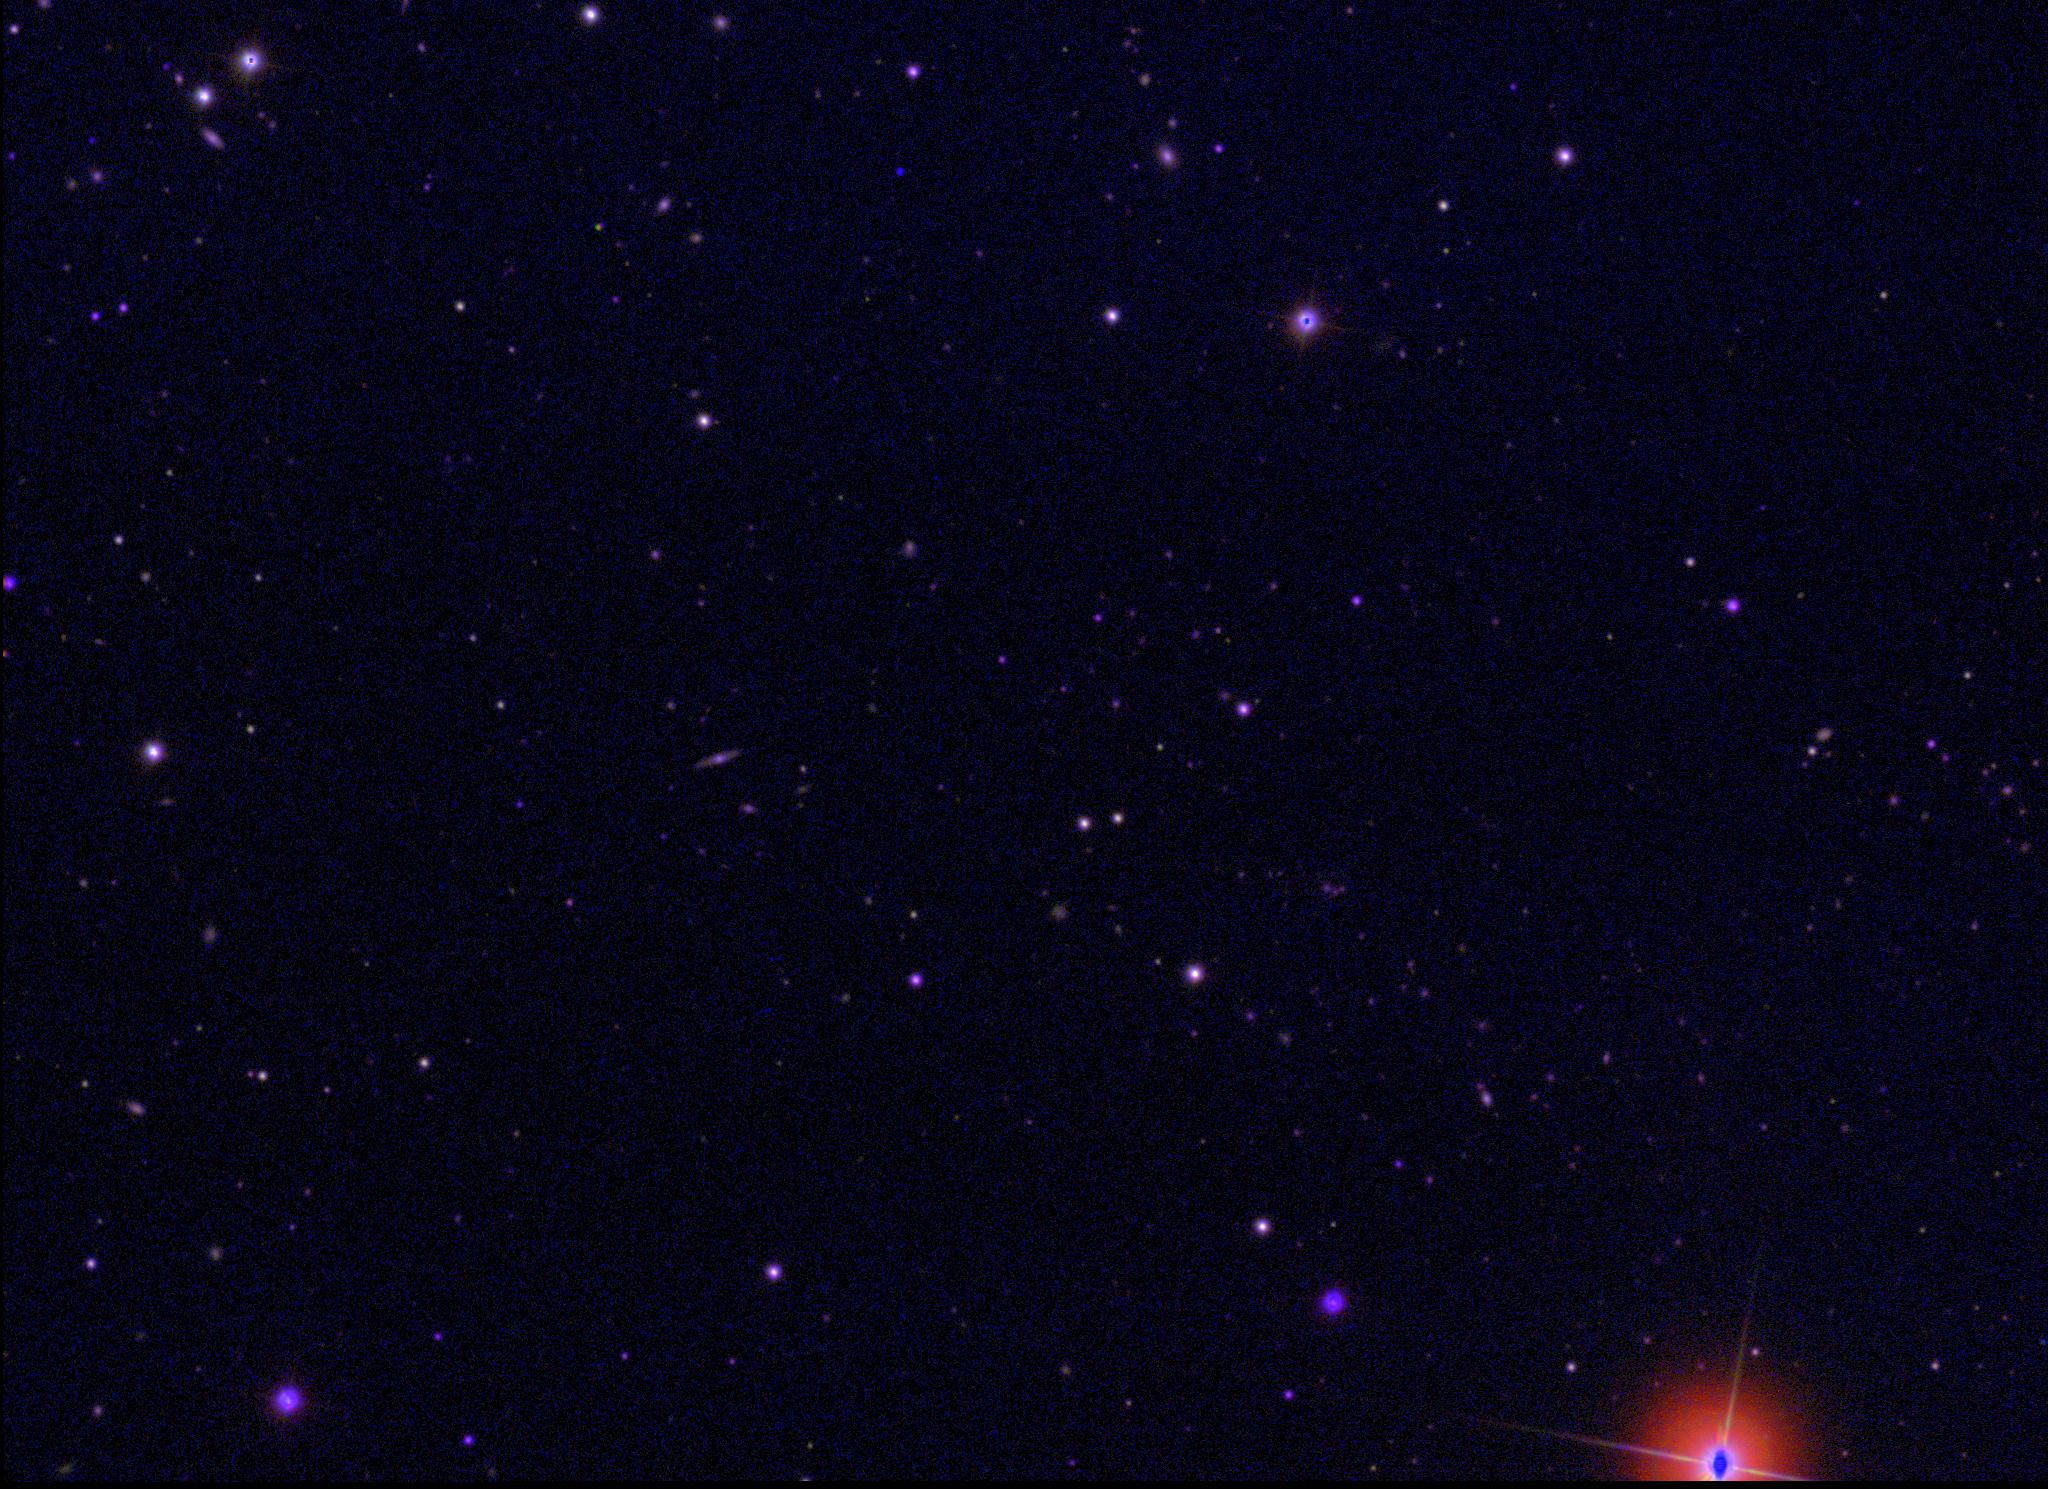L: (894, 165, 906, 180)
